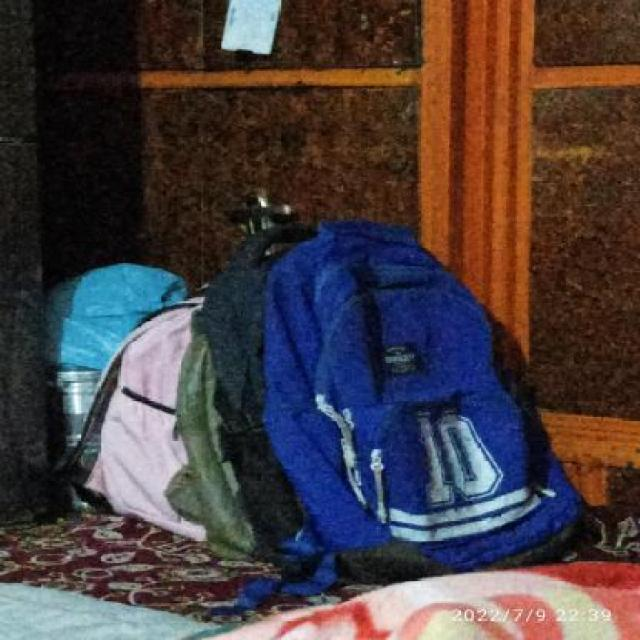backpack: (260, 216, 589, 590)
